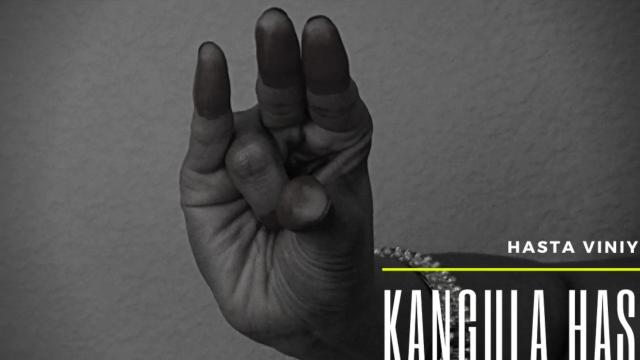kangul: (168, 16, 402, 358)
